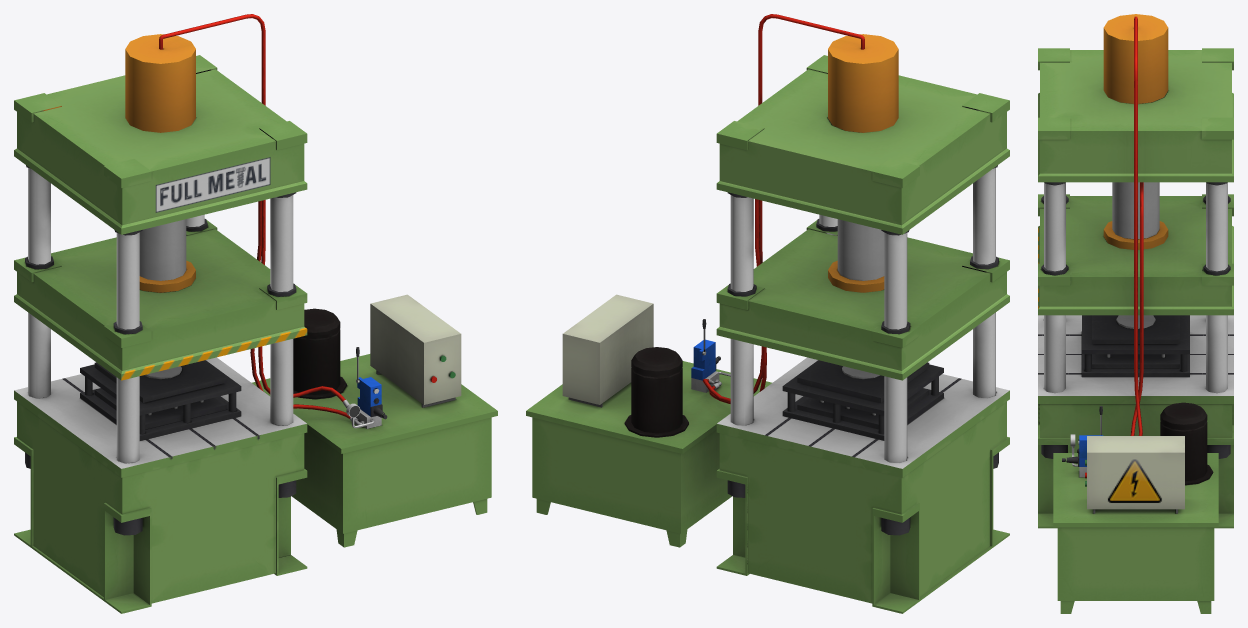
File: Prensa Hidraulica.FBX
3 renders of one model, left to right at view 1: azimuth 30°, elevation 25°; view 2: azimuth 150°, elevation 25°; view 3: azimuth 270°, elevation 25°, orthographic. The views are drawn at different scales.
Visible parts, largest first — view 1: Tabla, Pieza_002, Pieza_001, Mesa, Detal_Mesa, Tubos, Clindro Central, Mesa_interior_001, Cilindro_Central, Mangueras, Mesa_interior_005, Mesa_interior_004 (+3 smaller); view 2: Tabla, Pieza_002, Pieza_001, Mesa, Detal_Mesa, Tubos, Clindro Central, Mesa_interior_001, Cilindro_Central, Mangueras, Mesa_interior_005, Mesa_interior_004 (+3 smaller); view 3: Pieza_002, Mesa, Pieza_001, Tabla, Detal_Mesa, Tubos, Clindro Central, Mesa_interior_001, Mangueras, Cilindro_Central, Mesa_interior_005, Mesa_interior_004 (+3 smaller).
Boxes of the visible parts, x1=… form: Tabla: x1=14, y1=357, x2=307, y2=613; Pieza_002: x1=14, y1=55, x2=307, y2=234; Pieza_001: x1=14, y1=220, x2=307, y2=380; Mesa: x1=251, y1=354, x2=497, y2=547; Detal_Mesa: x1=293, y1=294, x2=461, y2=428; Tubos: x1=28, y1=168, x2=293, y2=462; Clindro Central: x1=125, y1=34, x2=195, y2=132; Mesa_interior_001: x1=80, y1=360, x2=241, y2=440; Cilindro_Central: x1=139, y1=219, x2=186, y2=280; Mangueras: x1=159, y1=14, x2=364, y2=427; Mesa_interior_005: x1=94, y1=360, x2=226, y2=402; Mesa_interior_004: x1=94, y1=366, x2=226, y2=429; Tabla: x1=716, y1=357, x2=1009, y2=613; Pieza_002: x1=716, y1=55, x2=1009, y2=234; Pieza_001: x1=716, y1=220, x2=1009, y2=380; Mesa: x1=526, y1=361, x2=772, y2=547; Detal_Mesa: x1=562, y1=294, x2=730, y2=437; Tubos: x1=730, y1=168, x2=995, y2=462; Clindro Central: x1=828, y1=34, x2=898, y2=132; Mesa_interior_001: x1=782, y1=360, x2=943, y2=440; Cilindro_Central: x1=837, y1=219, x2=884, y2=280; Mangueras: x1=703, y1=14, x2=864, y2=403; Mesa_interior_005: x1=797, y1=360, x2=929, y2=402; Mesa_interior_004: x1=797, y1=366, x2=929, y2=429; Pieza_002: x1=1038, y1=48, x2=1233, y2=182; Mesa: x1=1053, y1=453, x2=1218, y2=613; Pieza_001: x1=1038, y1=194, x2=1233, y2=315; Tabla: x1=1038, y1=315, x2=1233, y2=528; Detal_Mesa: x1=1062, y1=402, x2=1213, y2=513; Tubos: x1=1044, y1=182, x2=1227, y2=393; Clindro Central: x1=1103, y1=14, x2=1168, y2=103; Mesa_interior_001: x1=1082, y1=315, x2=1189, y2=377; Mangueras: x1=1130, y1=16, x2=1143, y2=435; Cilindro_Central: x1=1112, y1=182, x2=1159, y2=238; Mesa_interior_005: x1=1092, y1=315, x2=1179, y2=343; Mesa_interior_004: x1=1092, y1=315, x2=1179, y2=368.
Size of the model in its own units: 207 by 265 by 100.
Materials: 1 (1 with a texture image).
